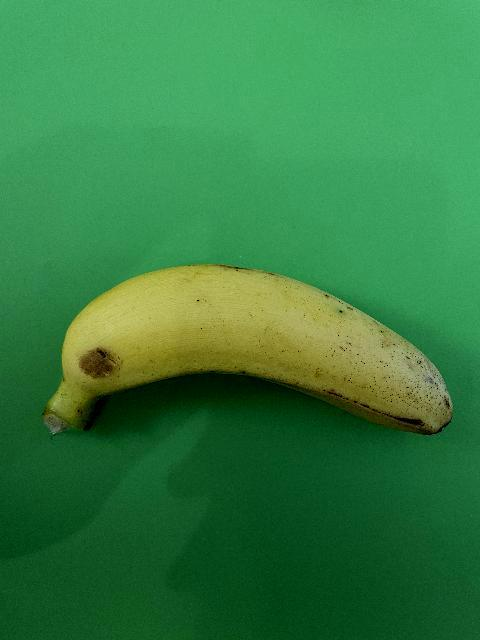banana: (41, 262, 452, 438)
